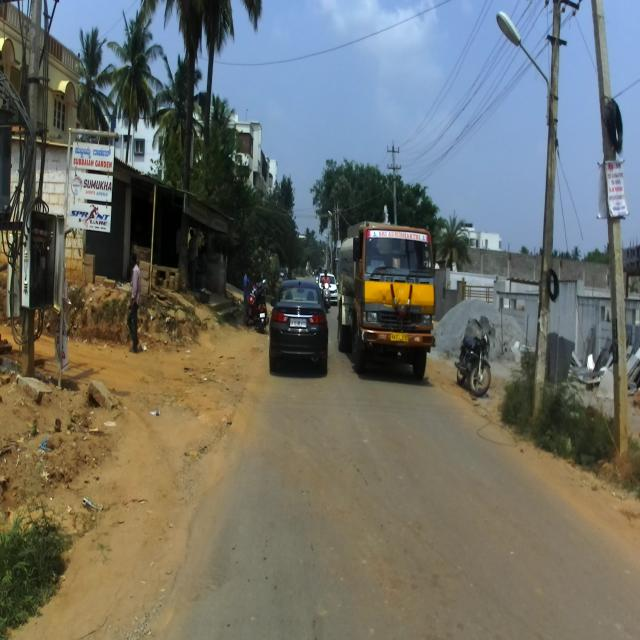car ahead at: (269, 281, 327, 369)
electric pole ahead at: (527, 0, 585, 435), (8, 0, 67, 399)
motorcycle ahead at: (457, 323, 494, 403)
person ahead at: (122, 253, 148, 356)
truck ahead at: (336, 218, 441, 385)
